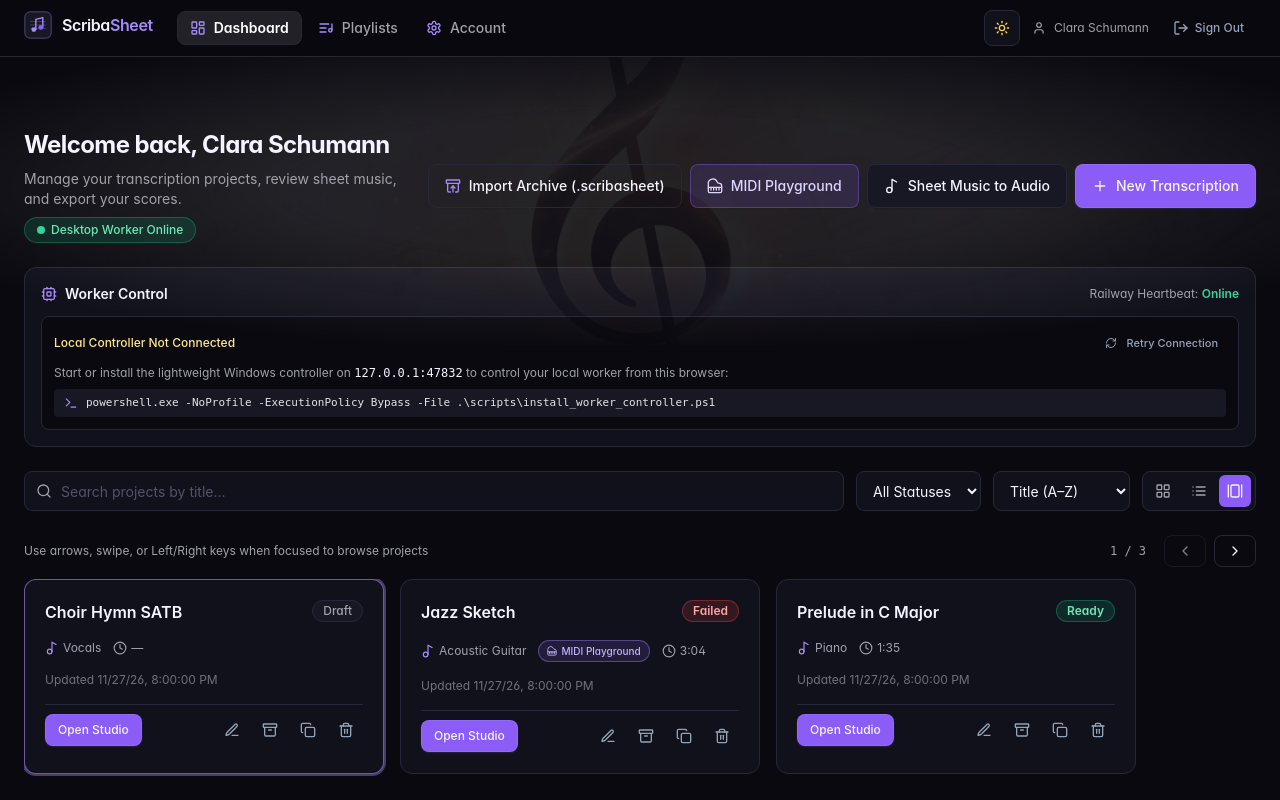
Dashboard Project View Modes (Grid, List, Carousel) › preserves search, status, and sort filters while switching views and renders List metadata & Carousel controls cleanly
This screenshot has width=1280, height=800.
Earlier steps of the test are not shown.
Expected: the dropdown named "Sort projects" shows "Title (A–Z)", [993,471,1130,511]
Expected: the text with test id "carousel-position" reads "1 / 3", [1110,544,1146,558]
Click the button with test id "carousel-next-btn" at (1235,551), box [1214,535,1256,567]
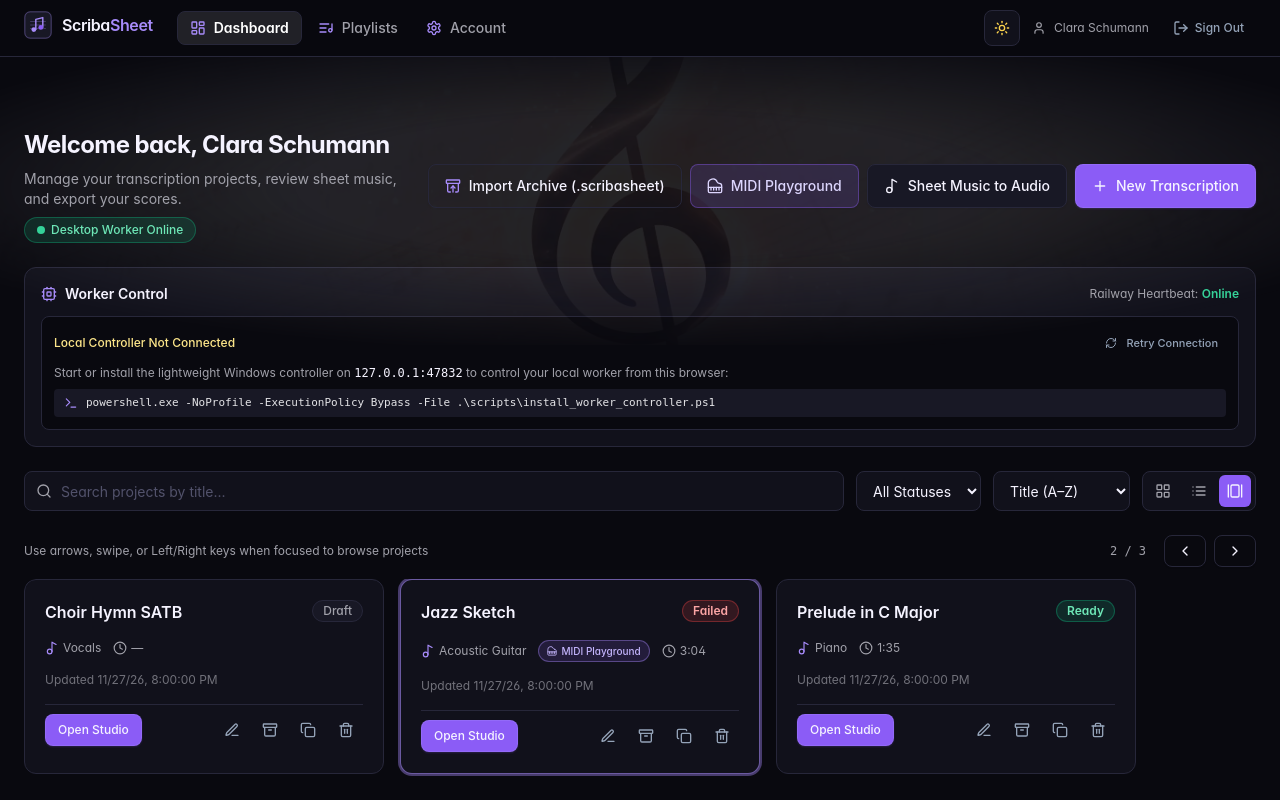
Expected: the button with test id "carousel-prev-btn" is enabled, [1164,535,1206,567]
Expected: the text with test id "carousel-position" reads "2 / 3", [1110,544,1146,558]
Press ArrowRight in the element with test id "projects-carousel-track", box [24,579,1256,782]
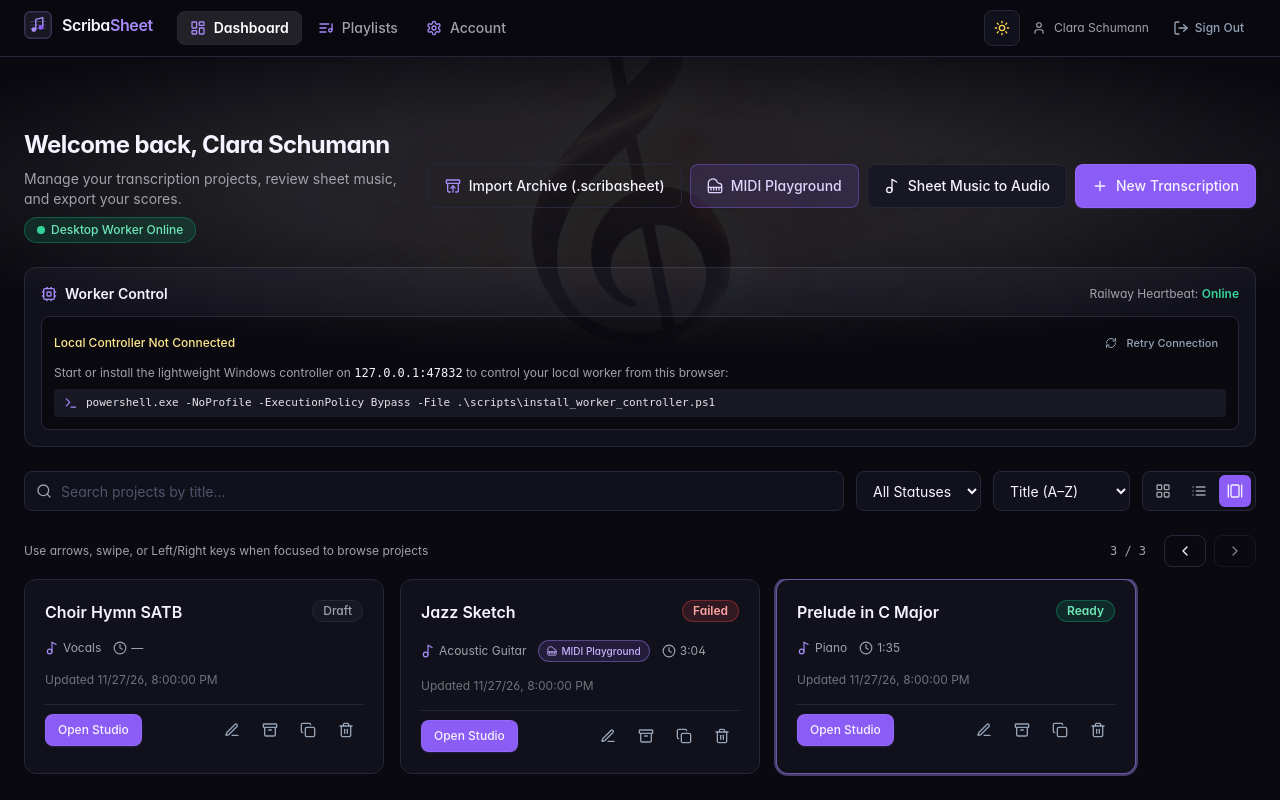
Expected: the button with test id "carousel-next-btn" is disabled, [1214,535,1256,567]
Expected: the text with test id "carousel-position" reads "3 / 3", [1110,544,1146,558]
Press ArrowLeft in the element with test id "projects-carousel-track", box [24,579,1256,782]
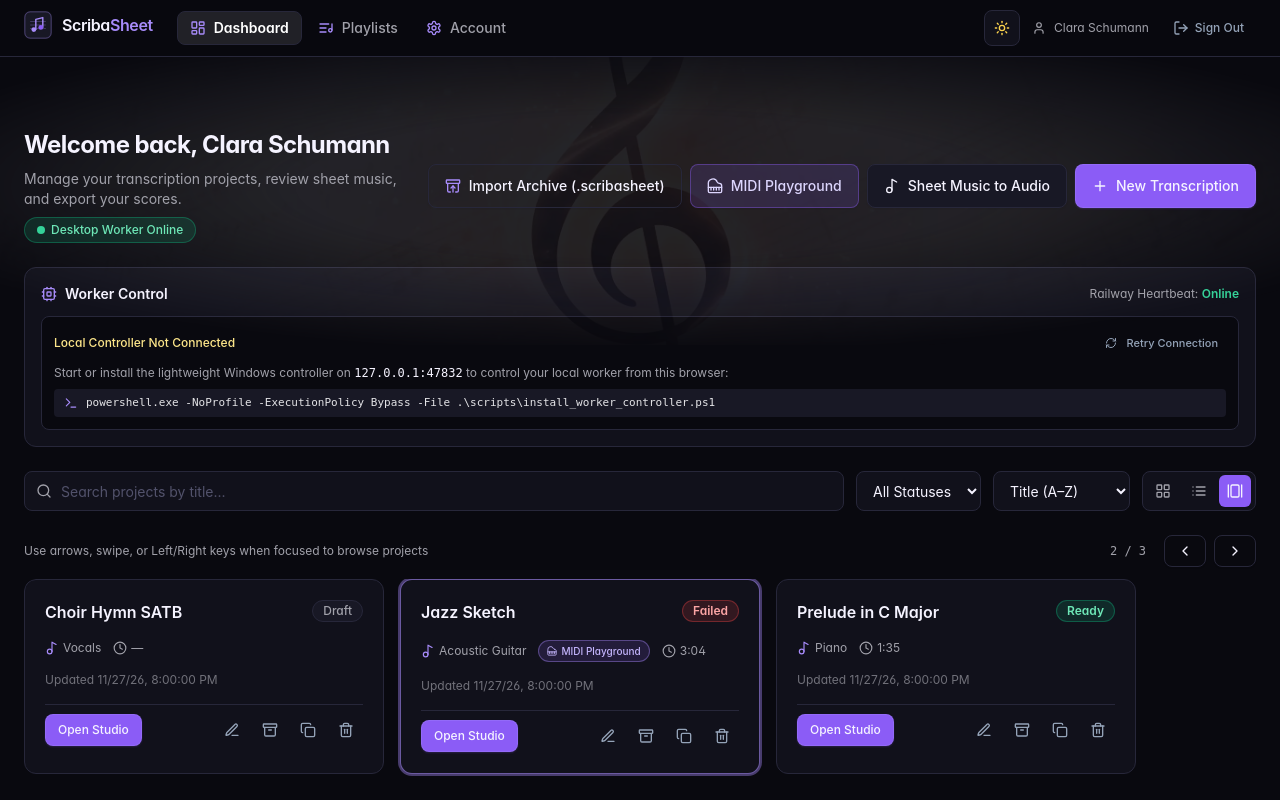
Expected: the text with test id "carousel-position" reads "2 / 3", [1110,544,1146,558]
Select "Ready" in the dropdown named "Filter by status" at (918,491), box [856,471,981,511]
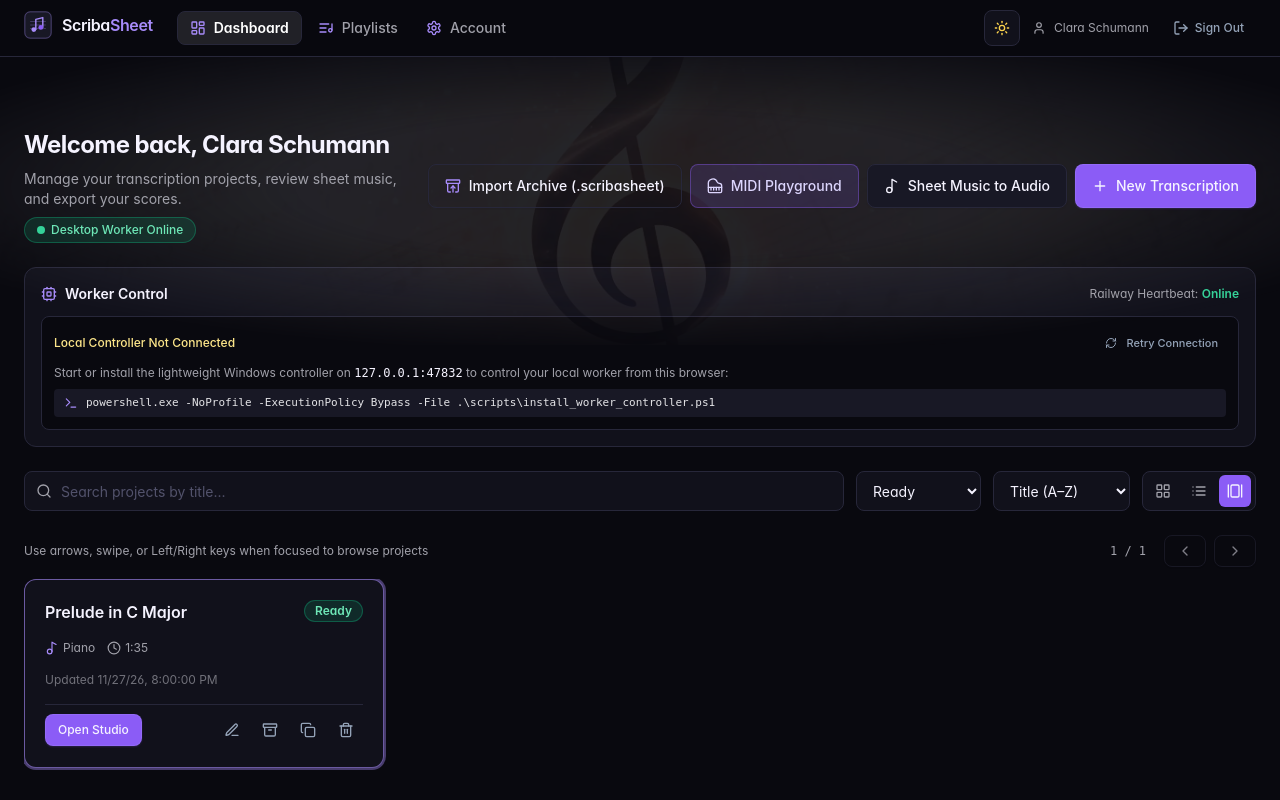
Expected: the button with test id "carousel-prev-btn" is disabled, [1164,535,1206,567]
Expected: the text with test id "carousel-position" reads "1 / 1", [1110,544,1146,558]
Type "Nonexistent Sonata" into the search field with placeholder "Search projects by title..." at (434,491), box [24,471,844,511]
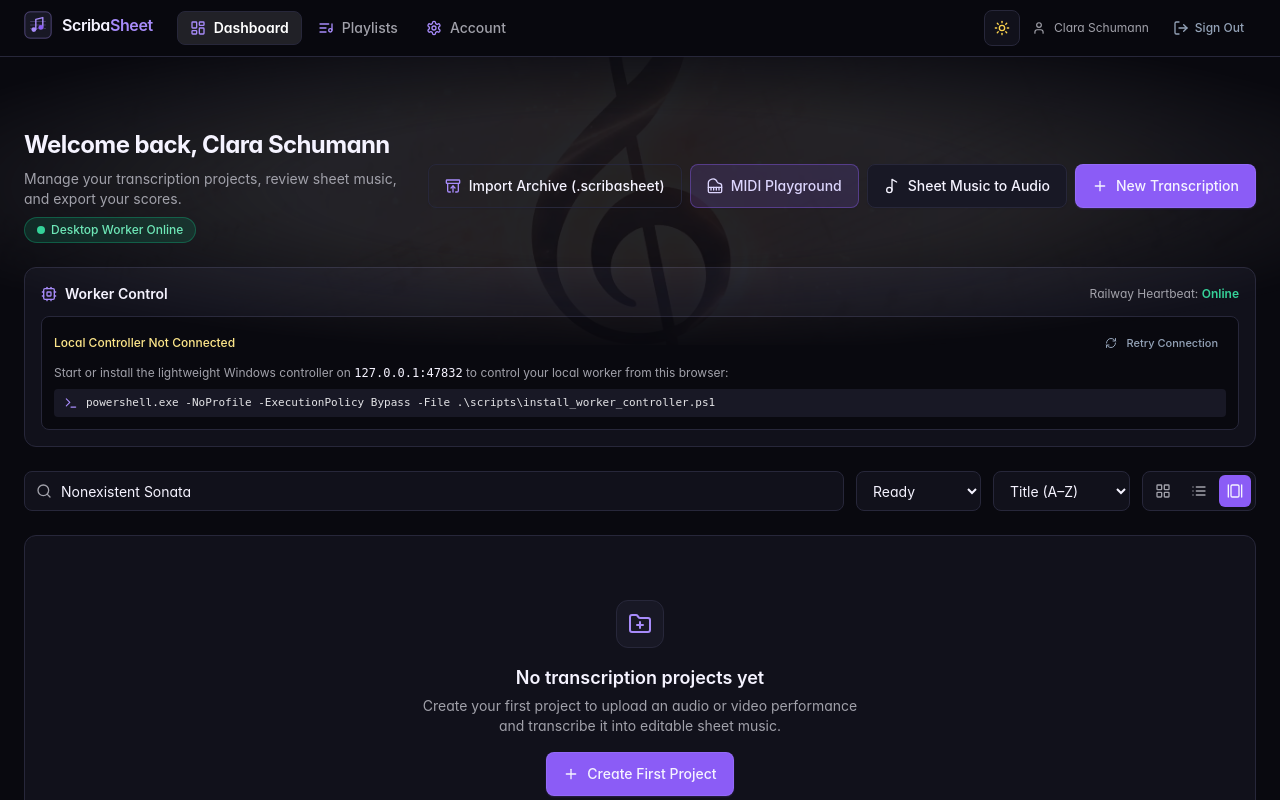
Expected: the heading "No transcription projects yet" is shown, [516,667,764,688]
